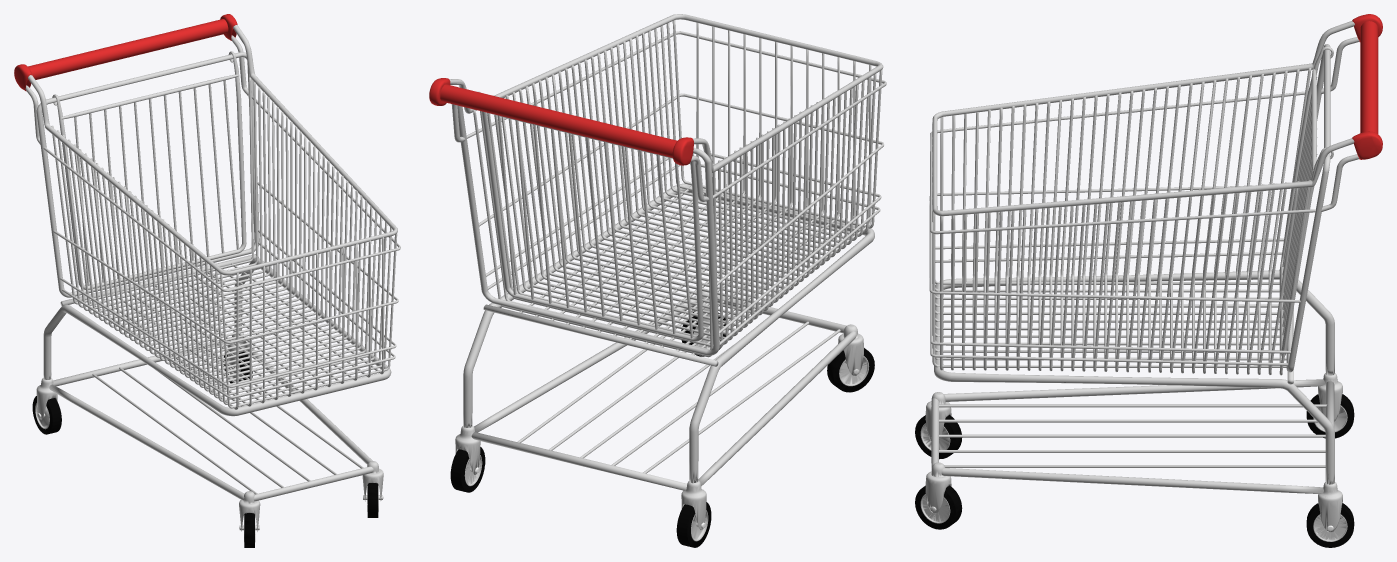
The model's file is shopping_cart.glb.
3 renders of one model, left to right at view 1: azimuth 30°, elevation 25°; view 2: azimuth 150°, elevation 25°; view 3: azimuth 270°, elevation 25°, orthographic. The views are drawn at different scales.
Visible parts, largest first — view 1: Torus.012_0, Cylinder.010_0, Cylinder.004_0; view 2: Torus.012_0, Cylinder.010_0, Cylinder.004_0; view 3: Torus.012_0, Cylinder.010_0, Cylinder.004_0.
Boxes of the visible parts, x1,y1,x2,y2 form: Torus.012_0: [25, 25, 400, 541]; Cylinder.010_0: [14, 14, 237, 91]; Cylinder.004_0: [32, 351, 378, 547]; Torus.012_0: [449, 14, 886, 541]; Cylinder.010_0: [429, 78, 693, 165]; Cylinder.004_0: [450, 312, 874, 547]; Torus.012_0: [920, 21, 1359, 541]; Cylinder.010_0: [1352, 14, 1382, 159]; Cylinder.004_0: [915, 394, 1354, 547].
Size of the model in its own units: 9.84 by 15.54 by 15.8.
